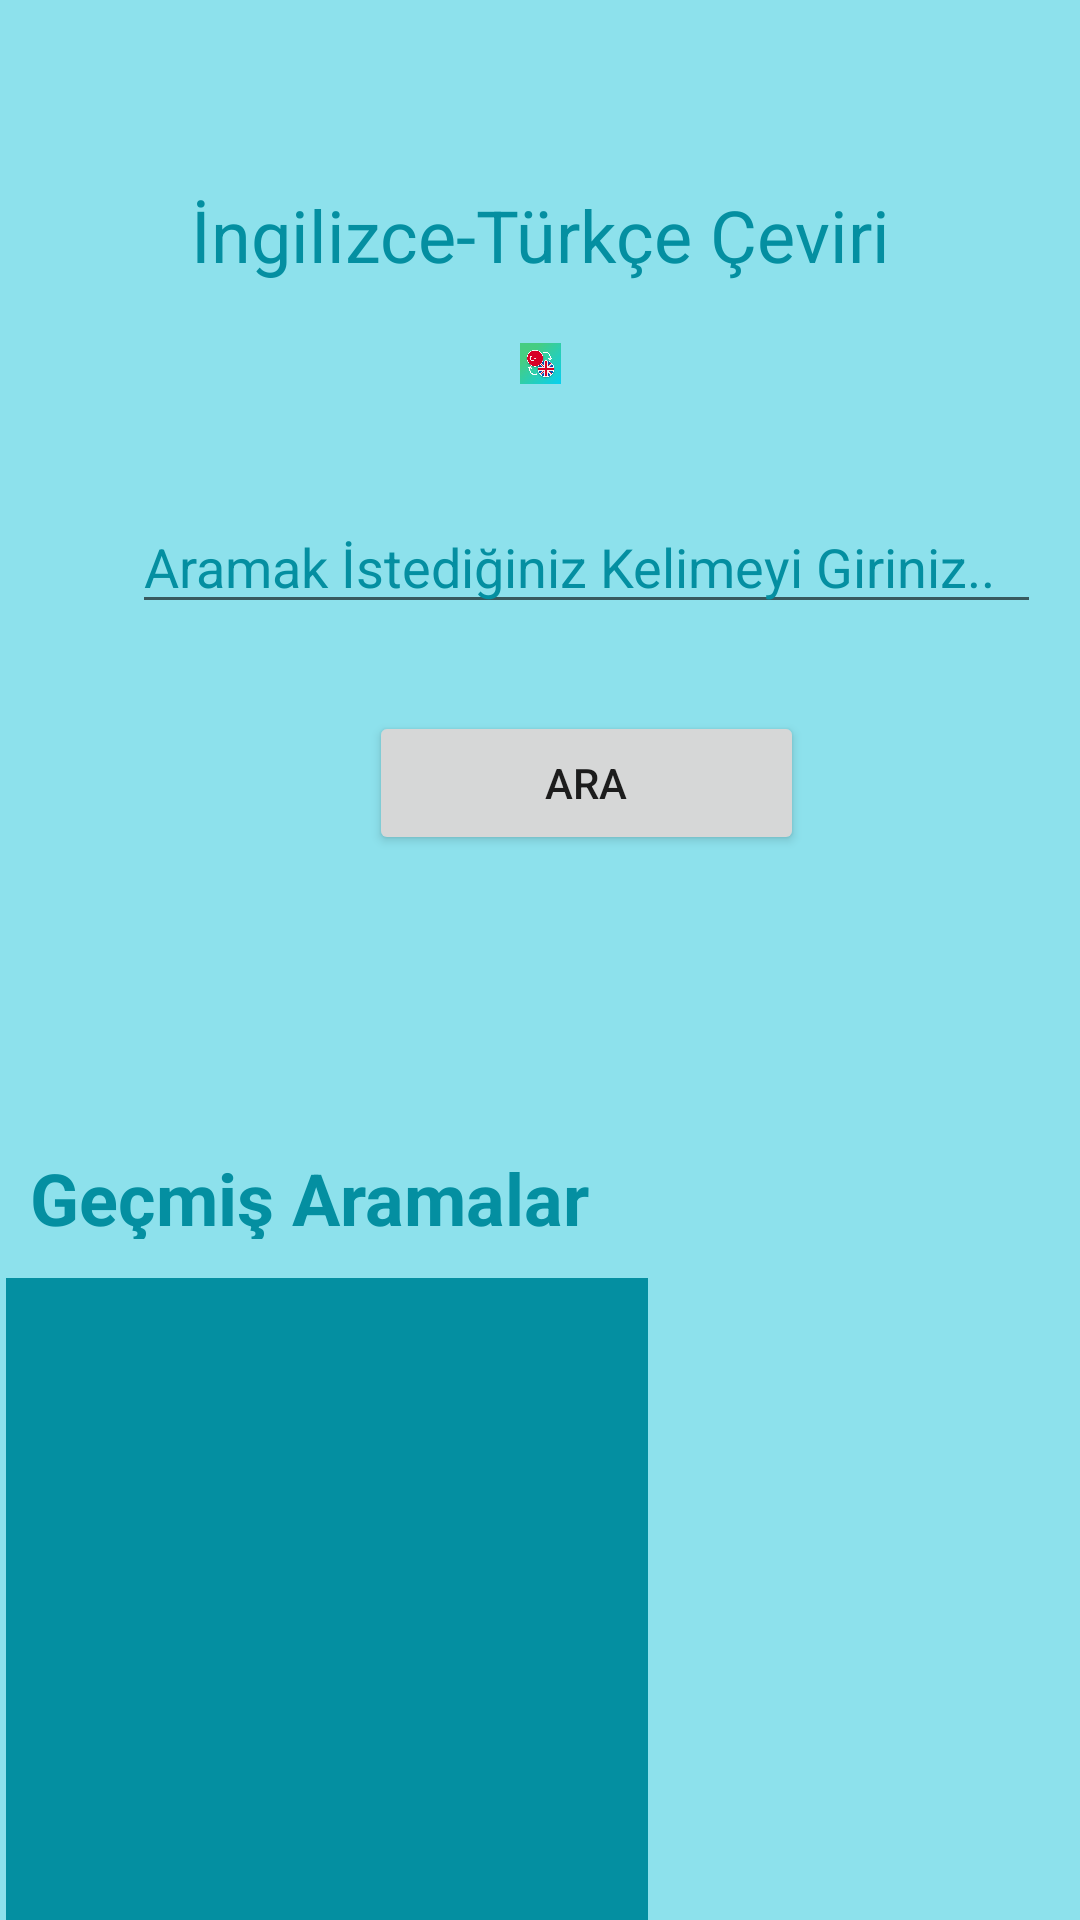

Named icons in this screenshot (1080w x 1920h) and their bounding boxes, (x1, y1, x2, y2):
eng tur photo: (520, 343, 561, 384)
